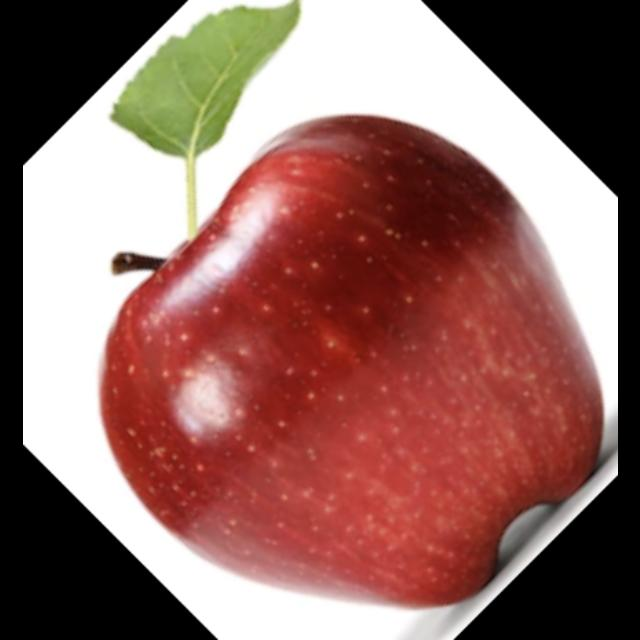Apel Segar: (92, 112, 604, 611)
